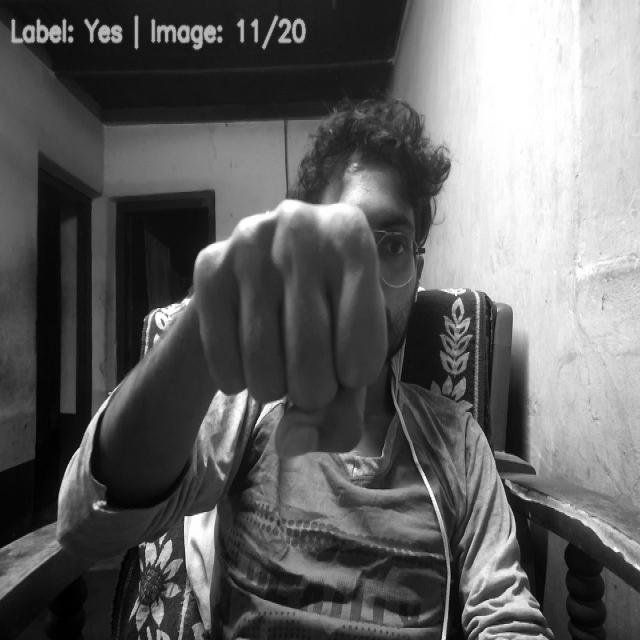Yes: (196, 198, 390, 462)
